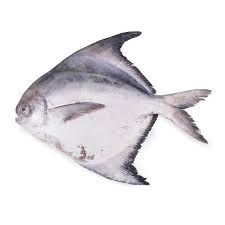Ikan Bawal: (15, 33, 211, 185)
